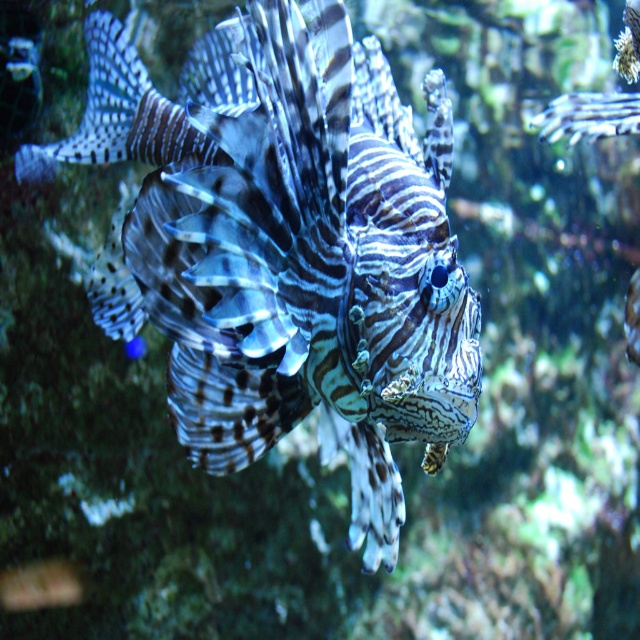Fish: (13, 0, 484, 576), (528, 0, 640, 369)
